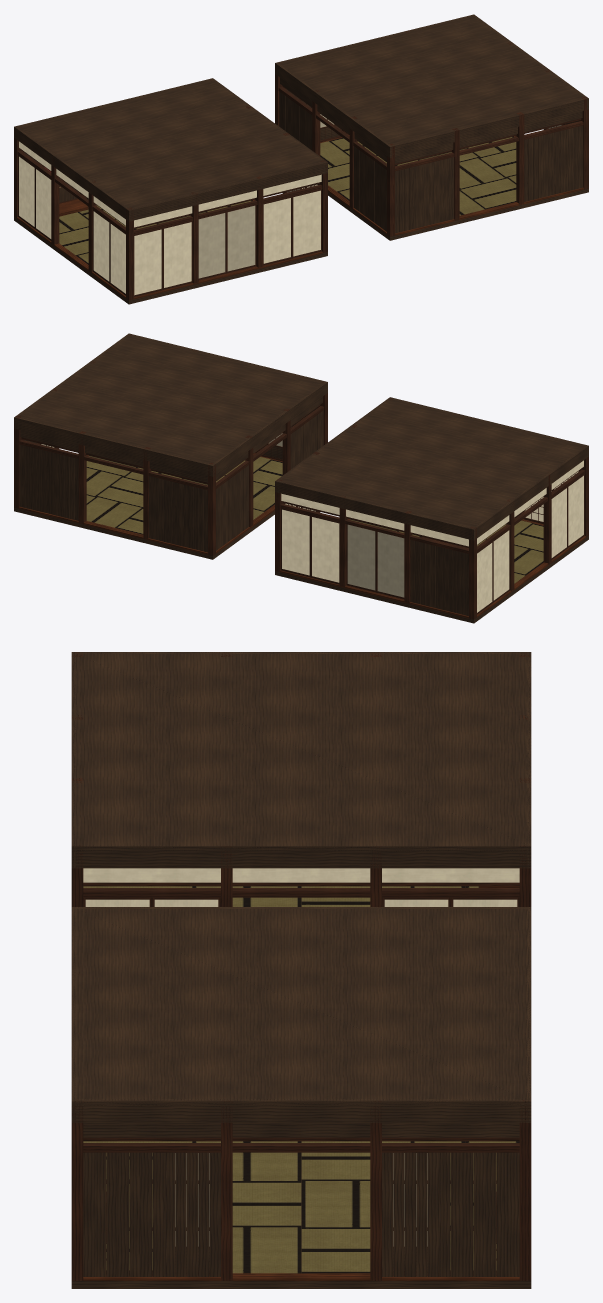
Rendered from tatami_room_modules.glb.
The picture shows the model from 3 angles, top to bottom: view 1: azimuth 30°, elevation 25°; view 2: azimuth 150°, elevation 25°; view 3: azimuth 270°, elevation 25°; orthographic projection. The views are drawn at different scales.
Parts seen in each view (by area): view 1: IC03_TatamiRoom_B__Shell, IC03_TatamiRoom_A__Shell, IC03_TatamiRoom_A__DoorS_R__Leaf, IC03_TatamiRoom_A__WallS0b__Leaf, IC03_TatamiRoom_A__WallS1b__Leaf, IC03_TatamiRoom_A__WallS1a__Leaf, IC03_TatamiRoom_A__WallS0a__Leaf, IC03_TatamiRoom_A__DoorS_L__Leaf, IC03_TatamiRoom_A__WallW0a__Leaf, IC03_TatamiRoom_A__WallW1a__Leaf, IC03_TatamiRoom_A__WallW0b__Leaf, IC03_TatamiRoom_A__WallW1b__Leaf; view 2: IC03_TatamiRoom_B__Shell, IC03_TatamiRoom_A__Shell, IC03_TatamiRoom_A__DoorN_L__Leaf, IC03_TatamiRoom_A__WallN0a__Leaf, IC03_TatamiRoom_A__WallN0b__Leaf, IC03_TatamiRoom_A__DoorN_R__Leaf, IC03_TatamiRoom_A__WallW1b__Leaf, IC03_TatamiRoom_A__WallW0b__Leaf, IC03_TatamiRoom_A__WallW1a__Leaf, IC03_TatamiRoom_A__WallW0a__Leaf; view 3: IC03_TatamiRoom_B__Shell, IC03_TatamiRoom_A__Shell.
Part boxes in pixels (x1,y1,x2,y2): IC03_TatamiRoom_B__Shell: [275, 14, 588, 240]; IC03_TatamiRoom_A__Shell: [14, 78, 327, 304]; IC03_TatamiRoom_A__DoorS_R__Leaf: [226, 205, 256, 273]; IC03_TatamiRoom_A__WallS0b__Leaf: [163, 221, 192, 289]; IC03_TatamiRoom_A__WallS1b__Leaf: [292, 189, 321, 258]; IC03_TatamiRoom_A__WallS1a__Leaf: [263, 196, 292, 265]; IC03_TatamiRoom_A__WallS0a__Leaf: [134, 228, 162, 297]; IC03_TatamiRoom_A__DoorS_L__Leaf: [198, 212, 226, 280]; IC03_TatamiRoom_A__WallW0a__Leaf: [18, 155, 35, 228]; IC03_TatamiRoom_A__WallW1a__Leaf: [92, 210, 109, 283]; IC03_TatamiRoom_A__WallW0b__Leaf: [35, 168, 51, 240]; IC03_TatamiRoom_A__WallW1b__Leaf: [110, 222, 125, 295]; IC03_TatamiRoom_B__Shell: [14, 333, 327, 559]; IC03_TatamiRoom_A__Shell: [275, 397, 588, 623]; IC03_TatamiRoom_A__DoorN_L__Leaf: [346, 524, 376, 592]; IC03_TatamiRoom_A__WallN0a__Leaf: [281, 508, 310, 577]; IC03_TatamiRoom_A__WallN0b__Leaf: [310, 515, 339, 584]; IC03_TatamiRoom_A__DoorN_R__Leaf: [376, 531, 404, 599]; IC03_TatamiRoom_A__WallW1b__Leaf: [567, 474, 584, 547]; IC03_TatamiRoom_A__WallW0b__Leaf: [493, 529, 510, 602]; IC03_TatamiRoom_A__WallW1a__Leaf: [551, 487, 567, 559]; IC03_TatamiRoom_A__WallW0a__Leaf: [477, 541, 492, 614]; IC03_TatamiRoom_B__Shell: [71, 907, 531, 1288]; IC03_TatamiRoom_A__Shell: [71, 652, 531, 906].
Bounding box in the file's own units: 18.5 × 3.6 × 8.
10 materials, 7 textured.
